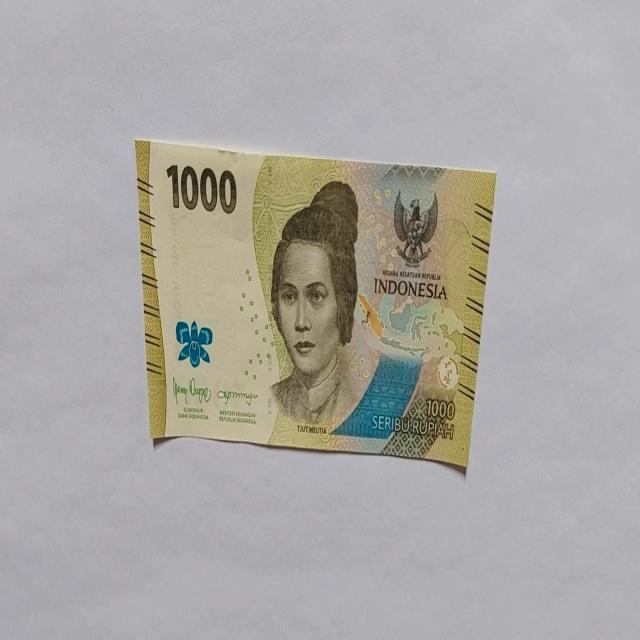seribu rupiah kertas: (134, 136, 496, 471)
